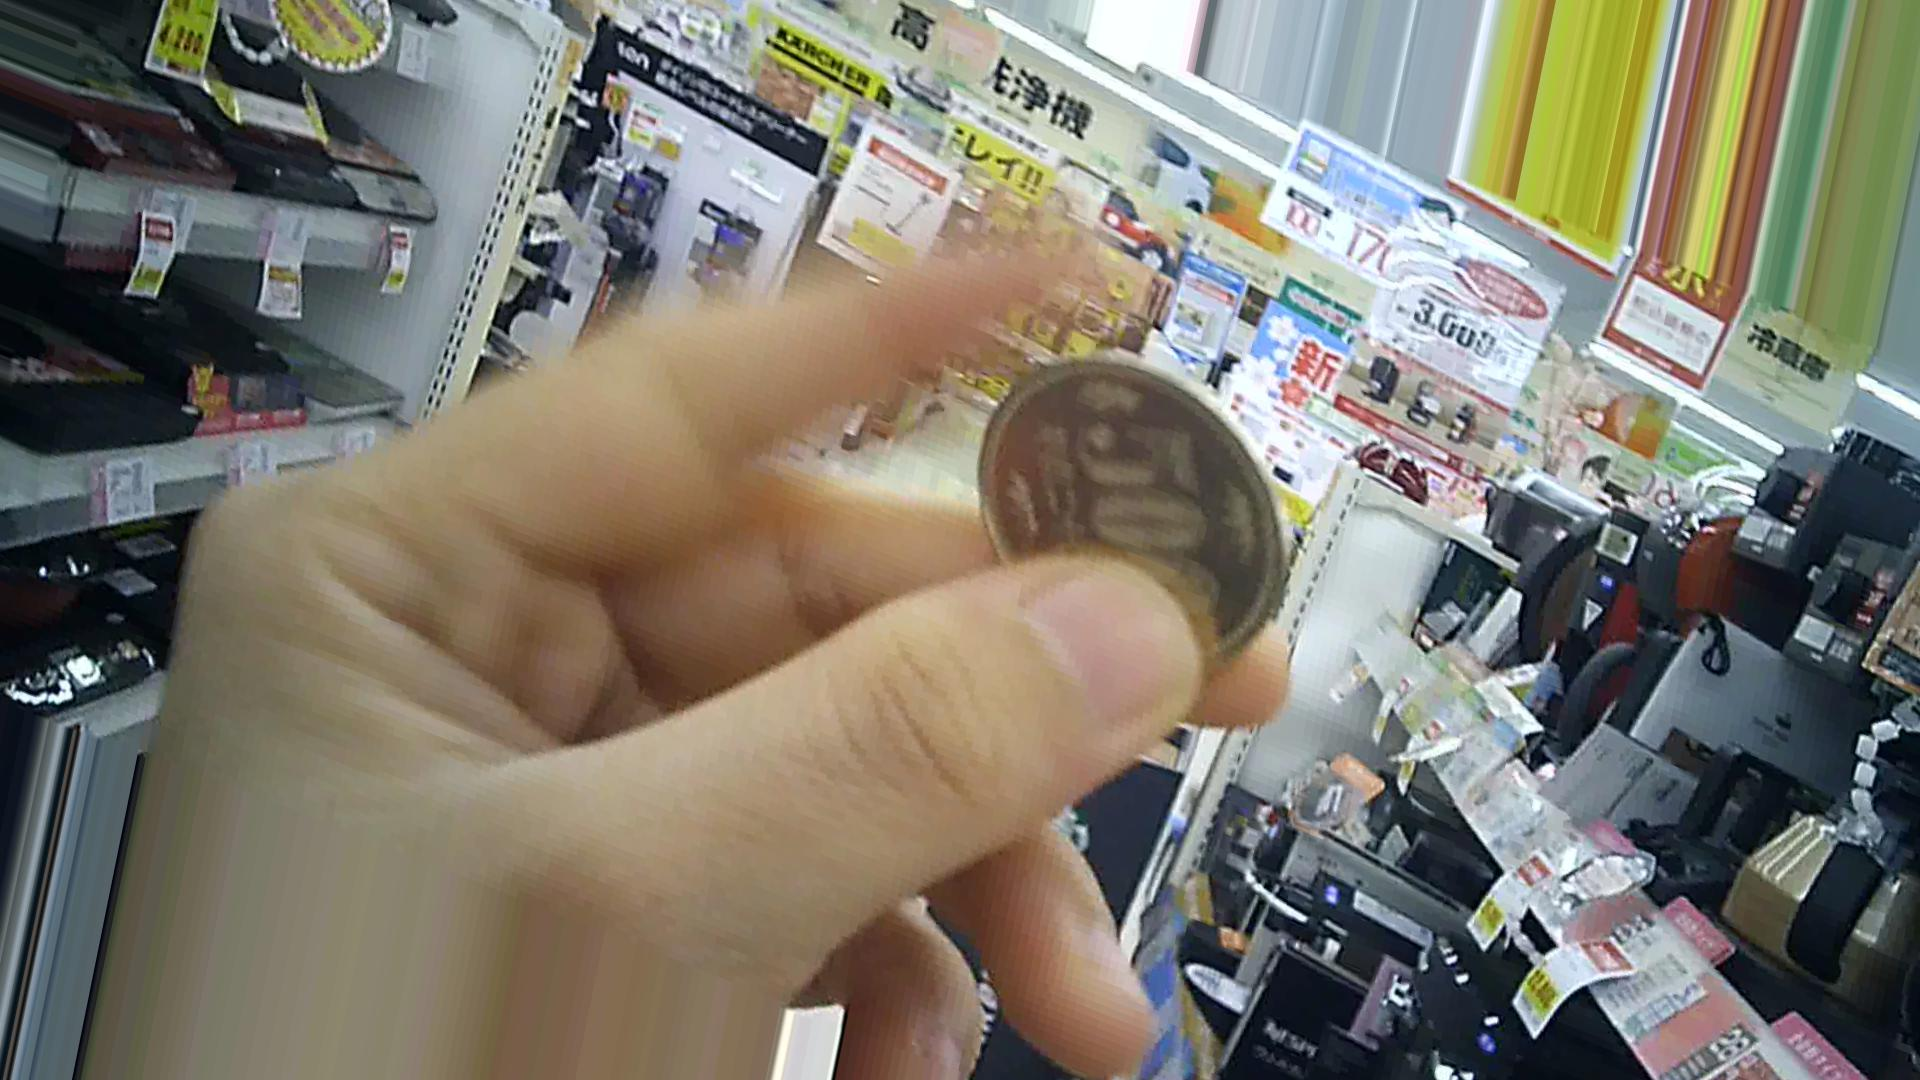500 Yen: (984, 359, 1269, 653)
